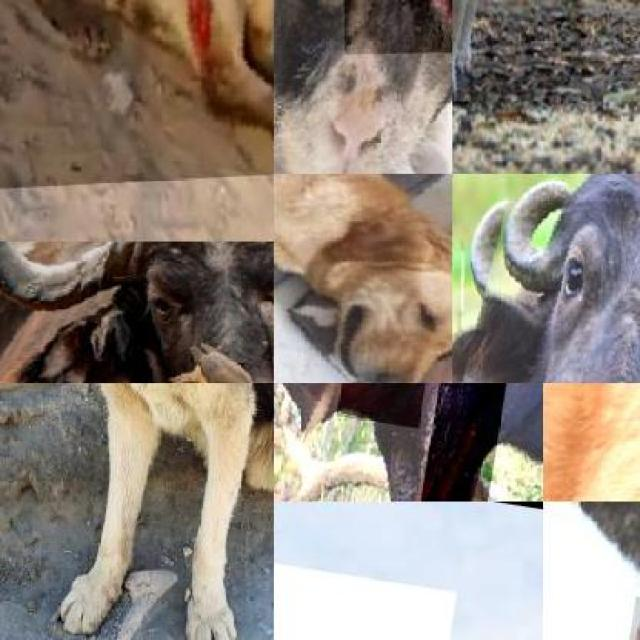buffalo: (452, 174, 640, 383), (0, 242, 274, 383), (274, 383, 543, 502)
cat: (274, 0, 452, 174), (274, 514, 455, 640)
dog: (35, 383, 274, 640), (0, 0, 274, 189), (274, 174, 452, 383), (452, 0, 585, 105)
injured: (392, 383, 526, 502), (166, 0, 248, 77), (342, 0, 452, 54), (334, 383, 443, 428)
